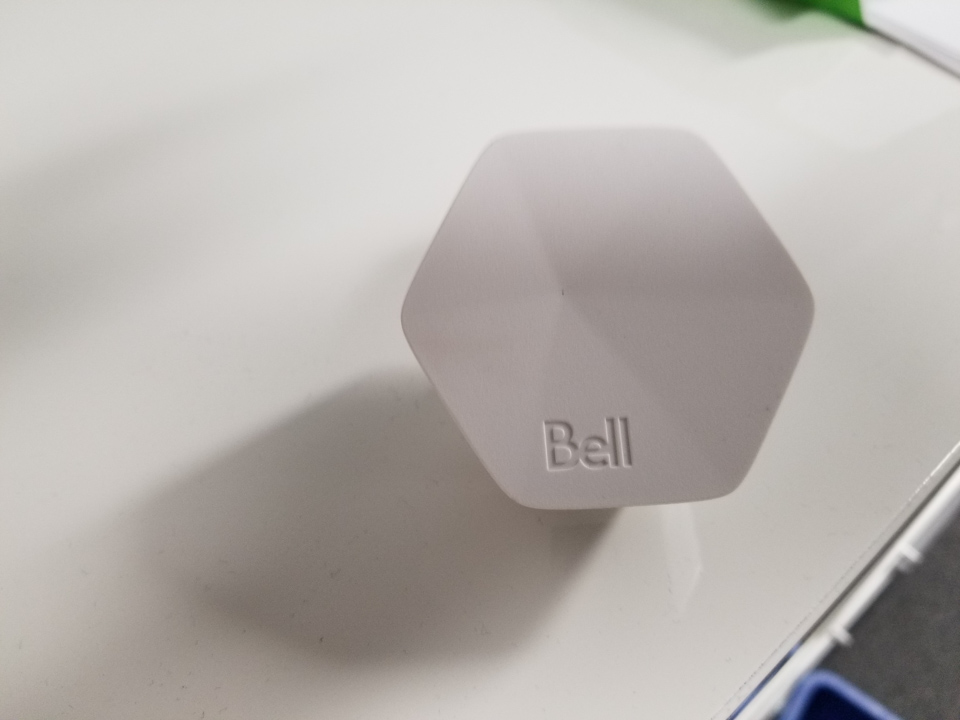pod: (397, 116, 826, 516)
